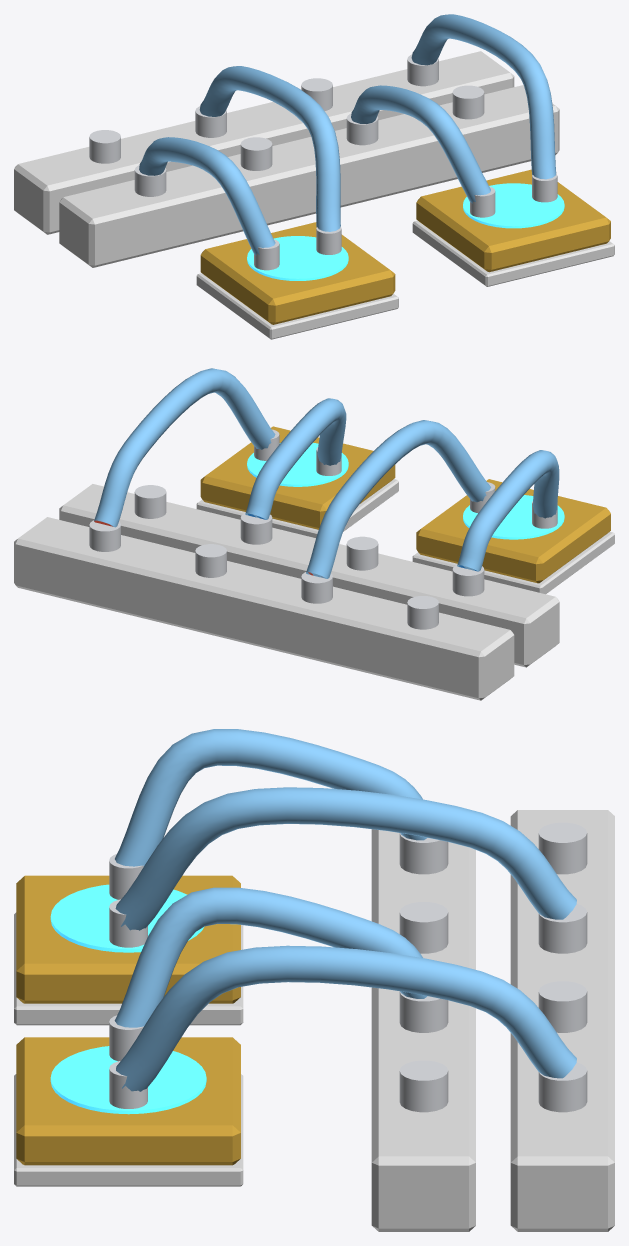
Rendered from hw_cool_direct_liquid.glb.
3 views of the same model, one above another, from view 1: azimuth 30°, elevation 25°; view 2: azimuth 150°, elevation 25°; view 3: azimuth 270°, elevation 25° (orthographic). The views are drawn at different scales.
Parts seen in each view (by area): view 1: Body, Flow_1, Flow_3, Flow_2, Flow_0; view 2: Body, Flow_1, Flow_3, Flow_0, Flow_2; view 3: Body, Flow_1, Flow_3, Flow_0, Flow_2.
Part boxes in pixels (x1,y1,x2,y2): Body: (14, 51, 614, 339); Flow_1: (199, 66, 340, 231); Flow_3: (411, 14, 556, 179); Flow_2: (351, 85, 490, 203); Flow_0: (139, 137, 275, 255); Body: (14, 426, 614, 700); Flow_1: (306, 420, 490, 578); Flow_3: (94, 368, 275, 527); Flow_0: (457, 450, 559, 571); Flow_2: (245, 398, 346, 519); Body: (14, 810, 614, 1231); Flow_1: (115, 787, 576, 930); Flow_3: (116, 945, 576, 1091); Flow_0: (115, 729, 427, 866); Flow_2: (114, 887, 427, 1027).
Size of the model in its own units: 0.24 by 0.0735 by 0.173.
